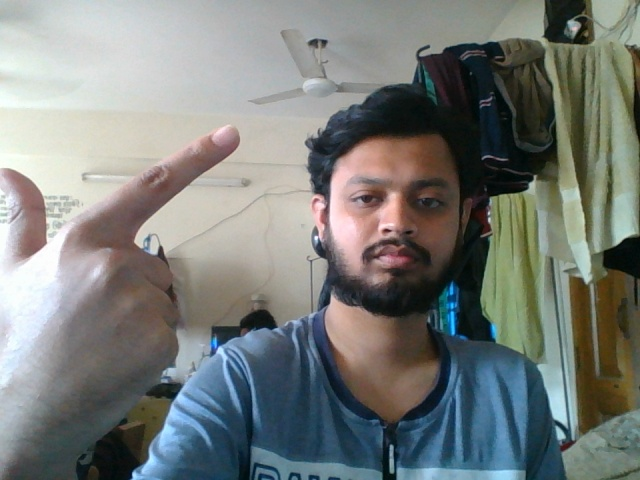tho: (1, 120, 247, 429)
